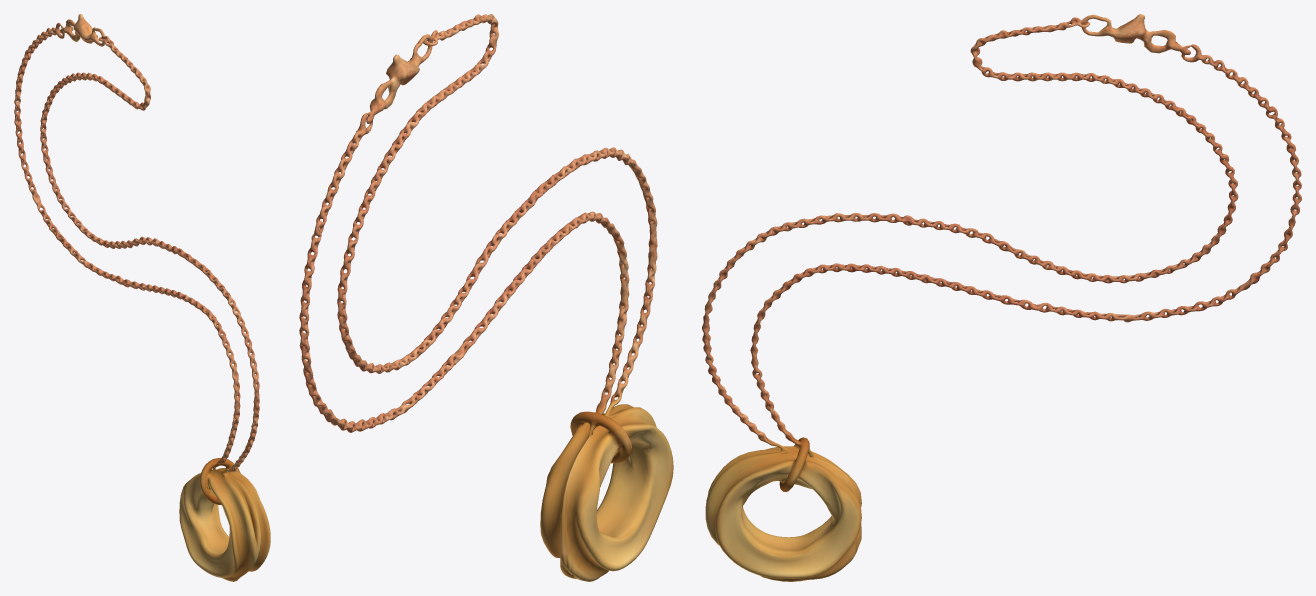
3 views of the same model, side by side, from view 1: azimuth 30°, elevation 25°; view 2: azimuth 150°, elevation 25°; view 3: azimuth 270°, elevation 25° (orthographic). The views are drawn at different scales.
Parts seen in each view (by area): view 1: model; view 2: model; view 3: model.
Part boxes in pixels (box(x1,y1,x2,y2)): model: box(14, 14, 270, 581); model: box(299, 14, 673, 581); model: box(702, 14, 1301, 581).
Size of the model in its own units: 0.1739 by 1.9 by 1.82.
1 material, 1 textured.
